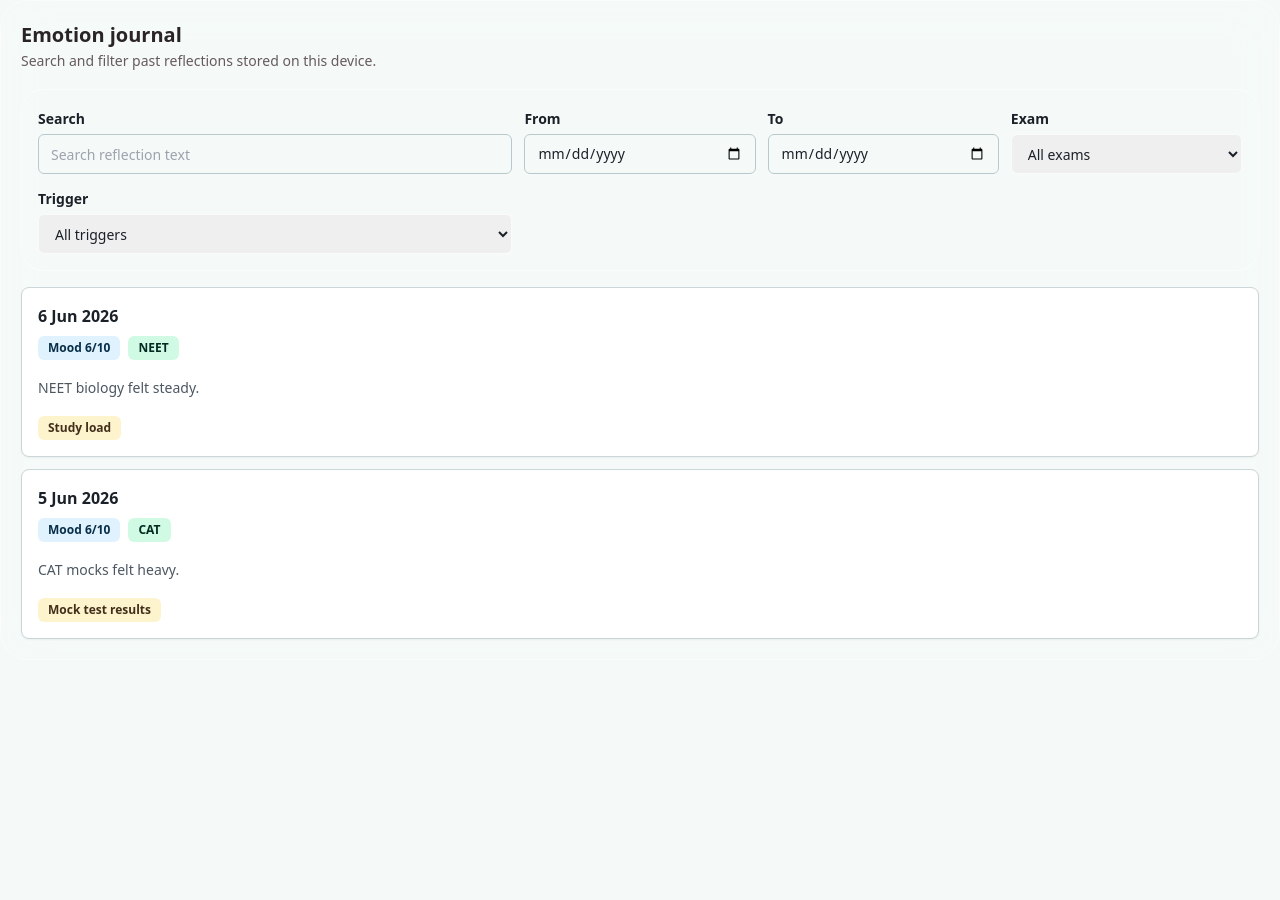
Test case: JournalList › renders entries and filters by exam type
The width and height of the screenshot is (1280, 900).
Expected: the text "NEET biology felt steady." is shown, [38, 378, 199, 397]
Select "CAT" in the dropdown labelled "Exam": (1126, 154) [1011, 134, 1242, 174]
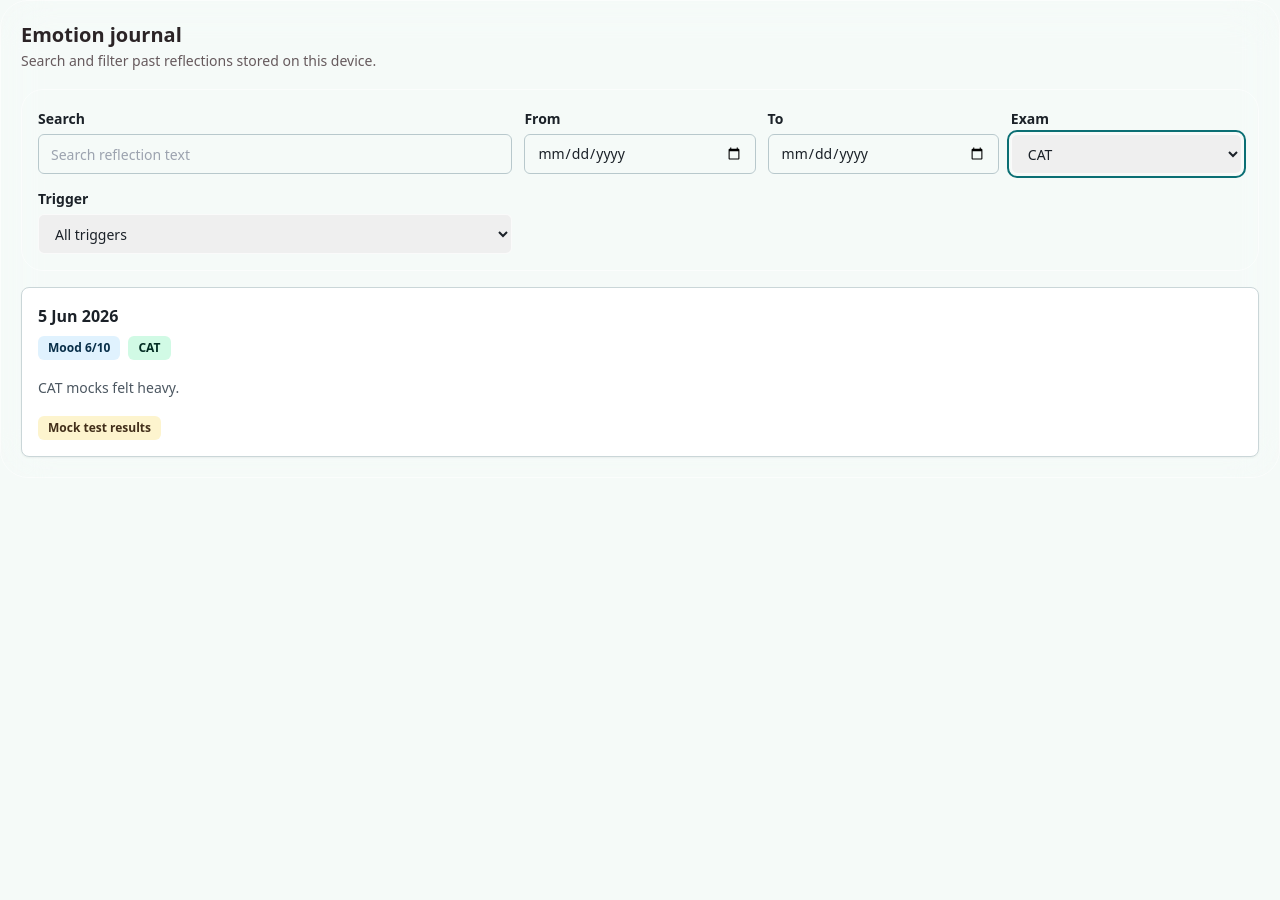
Expected: the text "CAT mocks felt heavy." is shown, [38, 378, 179, 397]
Expected: the text "NEET biology felt steady." is gone
